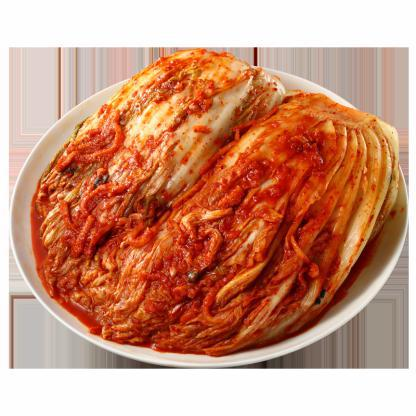kimchi: (90, 91, 410, 360), (23, 20, 280, 294)
